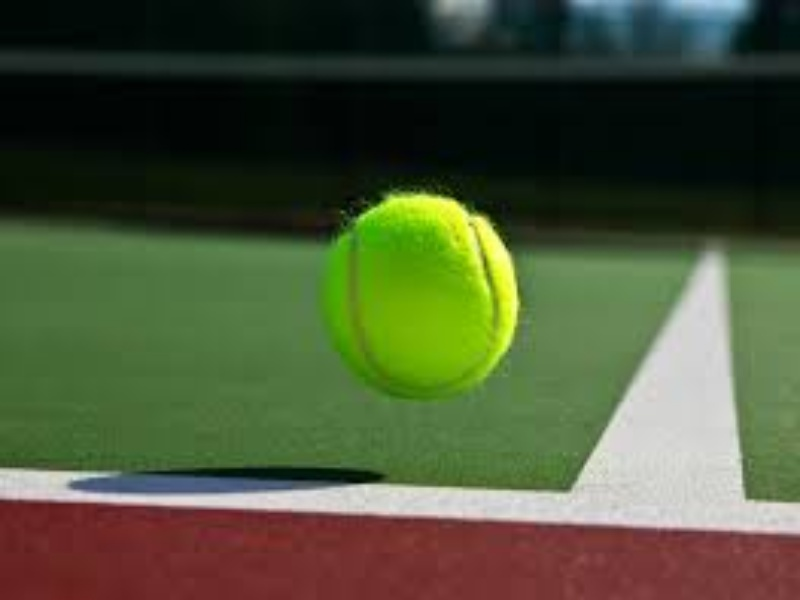tennis ball: (297, 150, 573, 444)
